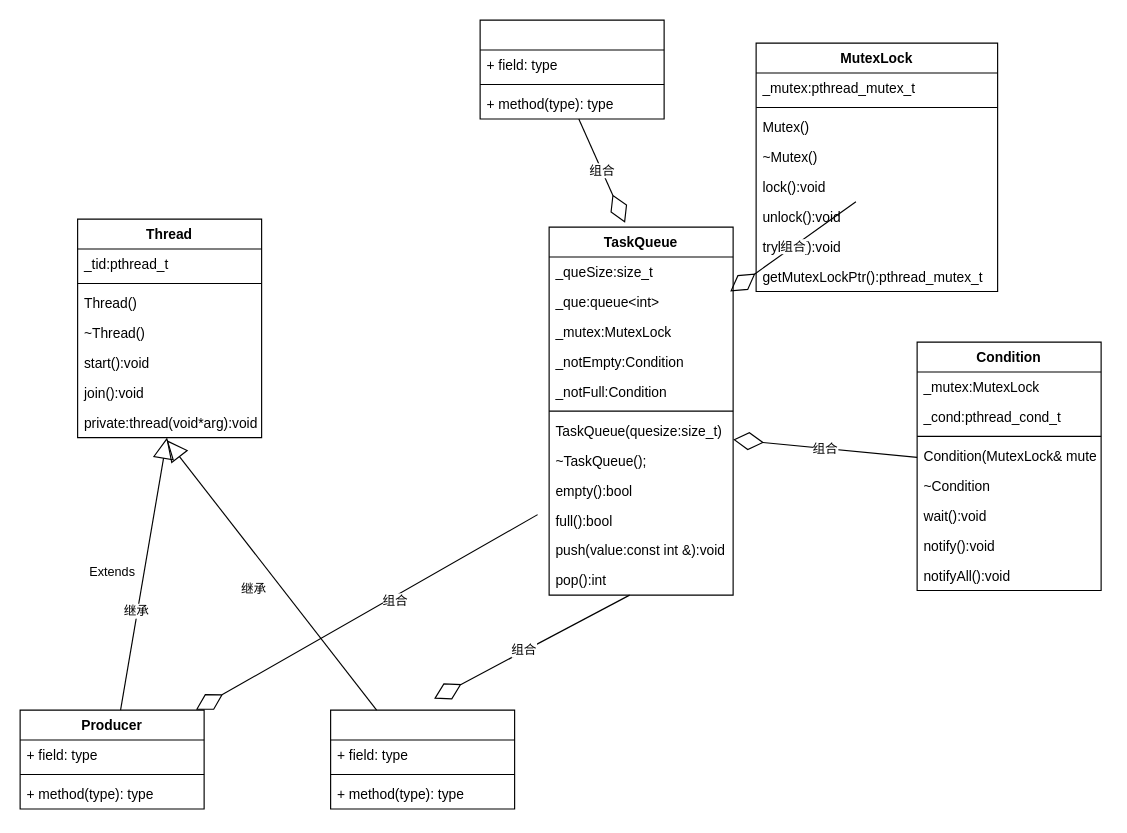
The diagram is 1127 pixels wide and 833 high, and some of its shapes have lost their labels. The box of each missing label's shape, as (x1, y1, x2, y2) in pixels:
Consumer: (329, 709, 515, 809)
Queue: (479, 19, 664, 119)
